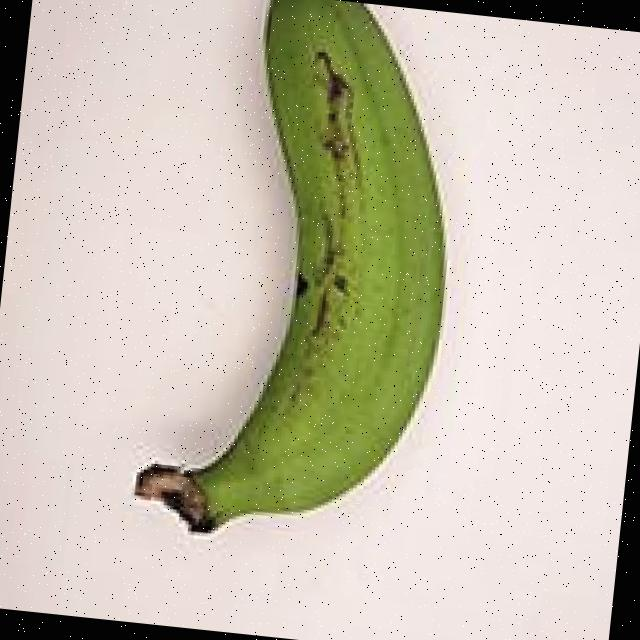Raw: (88, 0, 509, 581)
